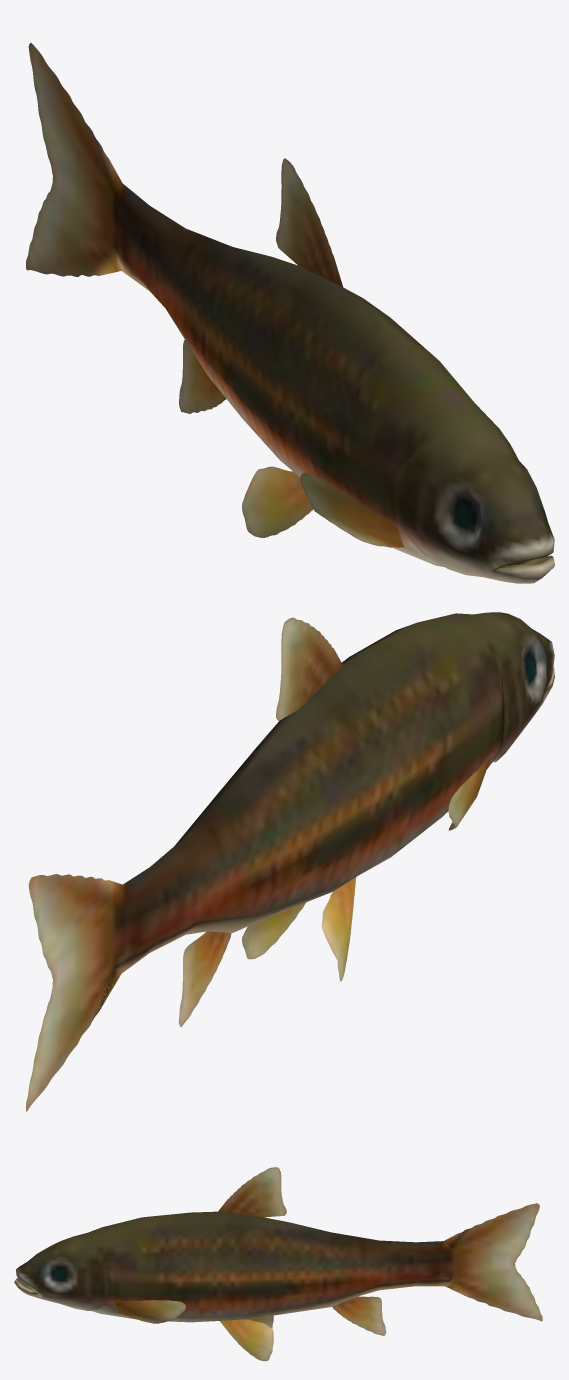
Rendered from dace.glb.
3 renders of one model, top to bottom at view 1: azimuth 30°, elevation 25°; view 2: azimuth 150°, elevation 25°; view 3: azimuth 270°, elevation 25°, orthographic. The views are drawn at different scales.
Bounding box in the file's own units: 1.06 × 2.49 × 6.34.
Materials: 1 (1 with a texture image).
